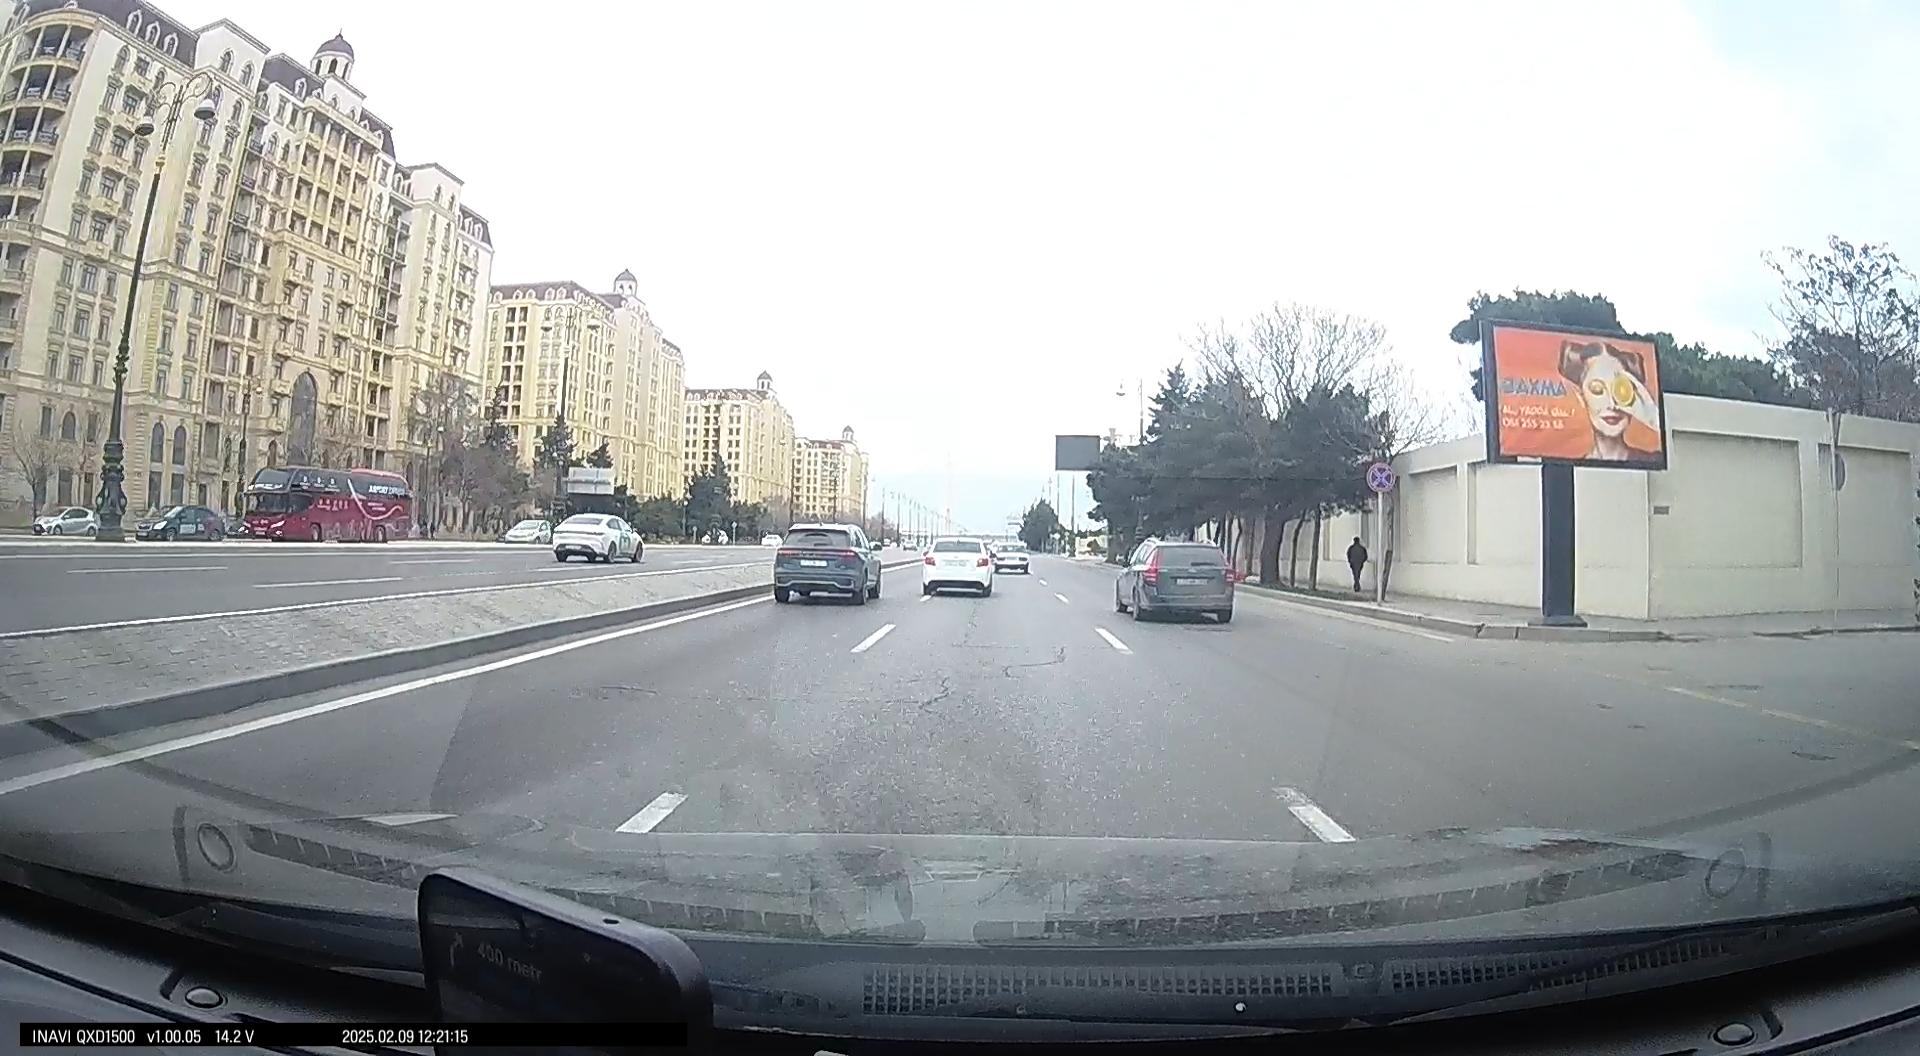banner: (1478, 317, 1668, 471)
